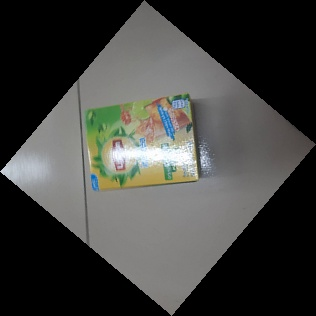LipTon: (84, 92, 201, 193)
